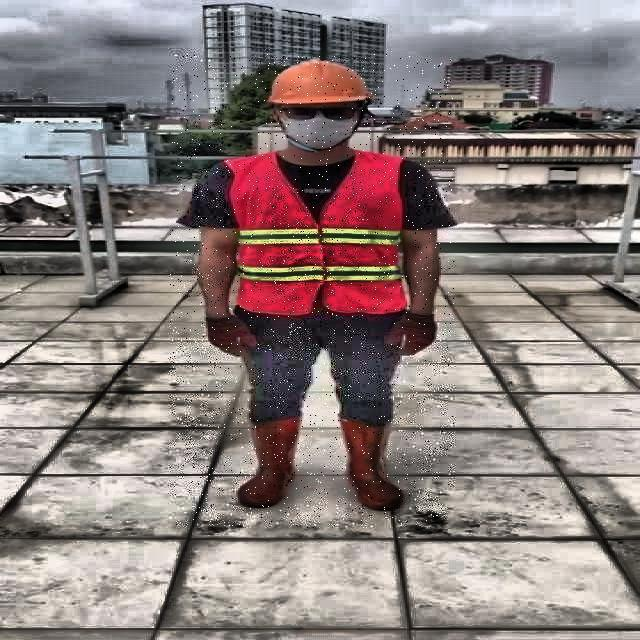safety_helmet: (258, 62, 376, 104)
safety_jacket: (222, 150, 414, 315)
